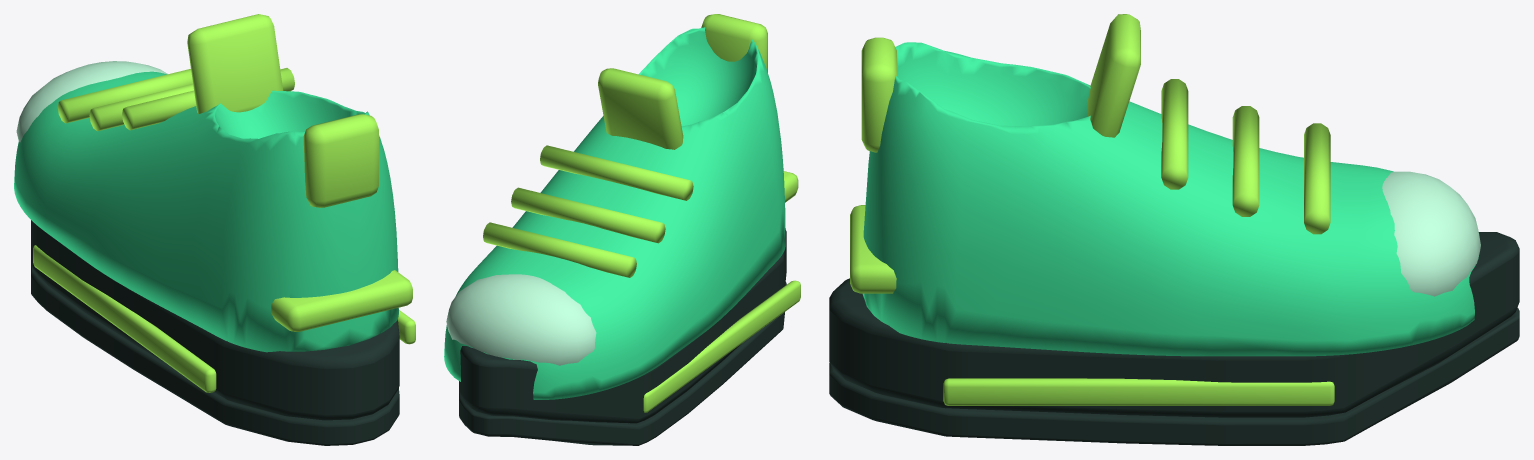
File: shoe_plasmasoles.fbx
The picture shows the model from 3 angles, left to right: view 1: azimuth 30°, elevation 25°; view 2: azimuth 150°, elevation 25°; view 3: azimuth 270°, elevation 25°; orthographic projection. The views are drawn at different scales.
Parts seen in each view (by area): view 1: shoe_plasmasoles; view 2: shoe_plasmasoles; view 3: shoe_plasmasoles.
Part boxes in pixels (x1,y1,x2,y2): shoe_plasmasoles: (14, 14, 415, 445); shoe_plasmasoles: (444, 14, 800, 445); shoe_plasmasoles: (829, 14, 1519, 445).
Size of the model in its own units: 1.56 by 2.23 by 3.88.
1 material, 1 textured.
